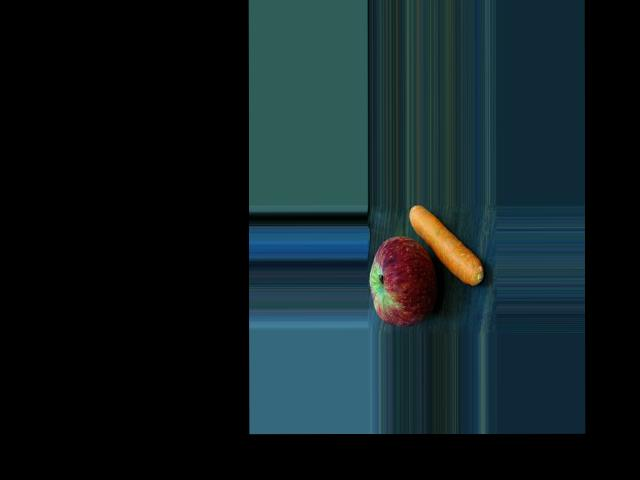carrot: (408, 204, 485, 285)
